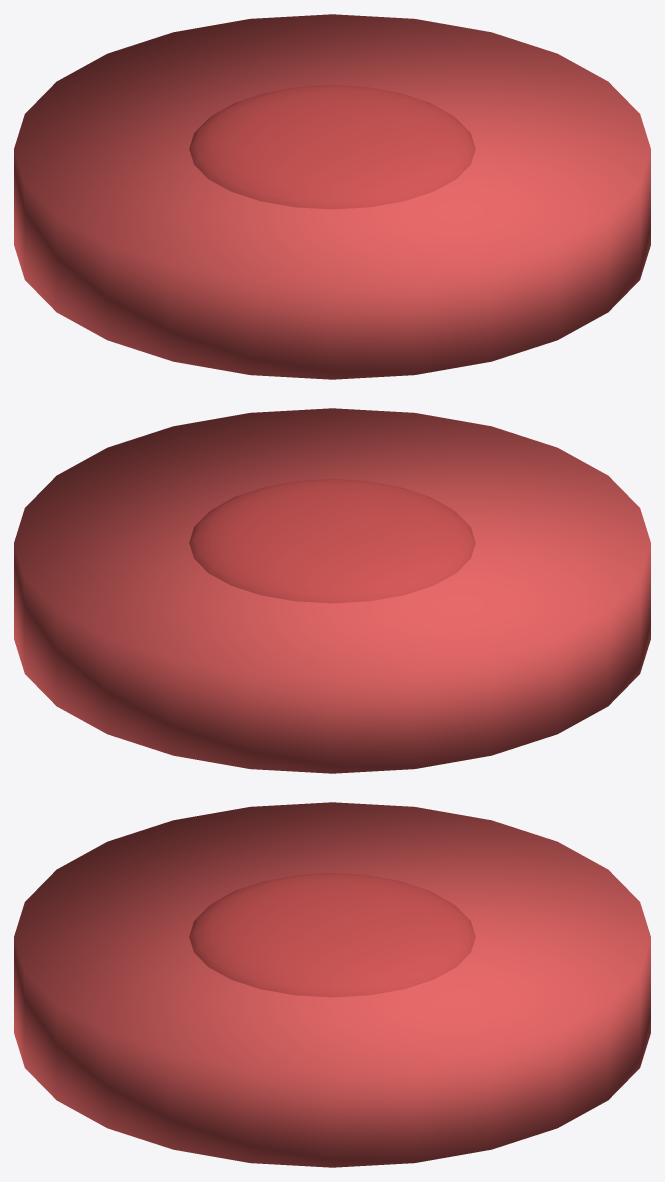
The model's file is red_blood_cell.glb.
3 renders of one model, top to bottom at view 1: azimuth 30°, elevation 25°; view 2: azimuth 150°, elevation 25°; view 3: azimuth 270°, elevation 25°, orthographic.
Parts seen in each view (by area): view 1: disc, dimple_t; view 2: disc, dimple_t; view 3: disc, dimple_t.
Part boxes in pixels (x1=…): disc: x1=14, y1=14, x2=650, y2=379; dimple_t: x1=189, y1=85, x2=475, y2=209; disc: x1=14, y1=408, x2=650, y2=773; dimple_t: x1=189, y1=479, x2=475, y2=603; disc: x1=14, y1=802, x2=650, y2=1167; dimple_t: x1=189, y1=873, x2=475, y2=997.
Bounding box in the file's own units: 1.5 × 0.4 × 1.5.
